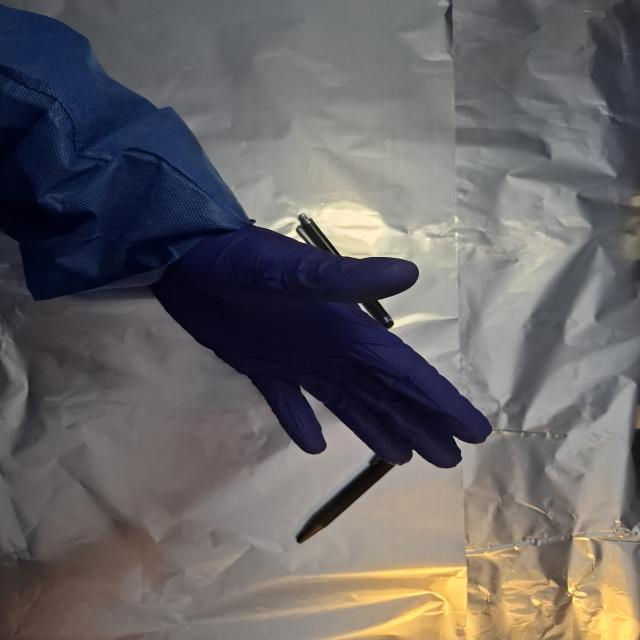glove_on: (146, 222, 496, 471)
